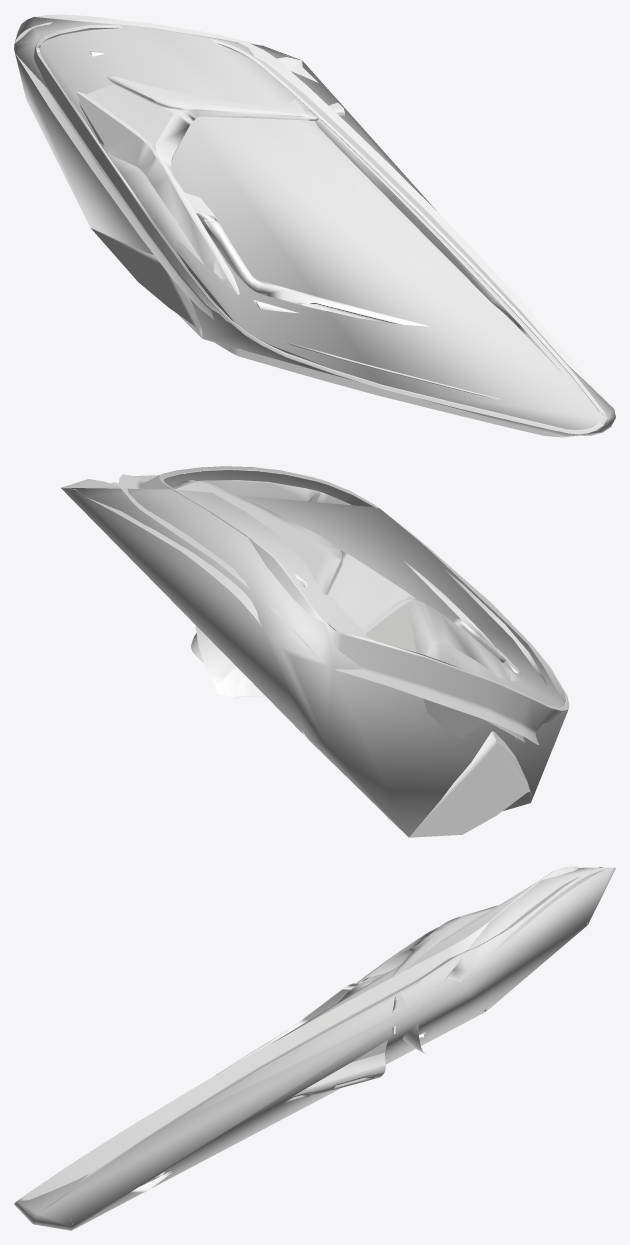
The picture shows the model from 3 angles, top to bottom: view 1: azimuth 30°, elevation 25°; view 2: azimuth 150°, elevation 25°; view 3: azimuth 270°, elevation 25°; orthographic projection. The views are drawn at different scales.
Visible parts, largest first — view 1: light_eclipse_head_l_01_col, light_eclipse_head_l_01; view 2: light_eclipse_head_l_01_col, light_eclipse_head_l_01; view 3: light_eclipse_head_l_01_col, light_eclipse_head_l_01.
Boxes of the visible parts, x1,y1,x2,y2 form: light_eclipse_head_l_01_col: [14, 17, 615, 437]; light_eclipse_head_l_01: [14, 14, 612, 437]; light_eclipse_head_l_01_col: [61, 487, 567, 837]; light_eclipse_head_l_01: [62, 466, 569, 837]; light_eclipse_head_l_01_col: [14, 867, 615, 1230]; light_eclipse_head_l_01: [14, 866, 604, 1224].
Bounding box in the file's own units: 0.261 × 0.228 × 0.4792.
Materials: 3 (2 with a texture image).
